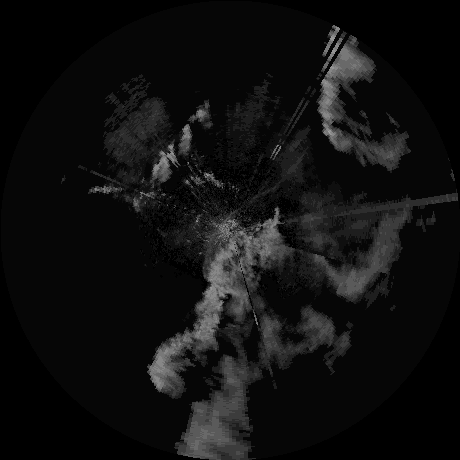frontgust: (231, 175, 291, 220)
